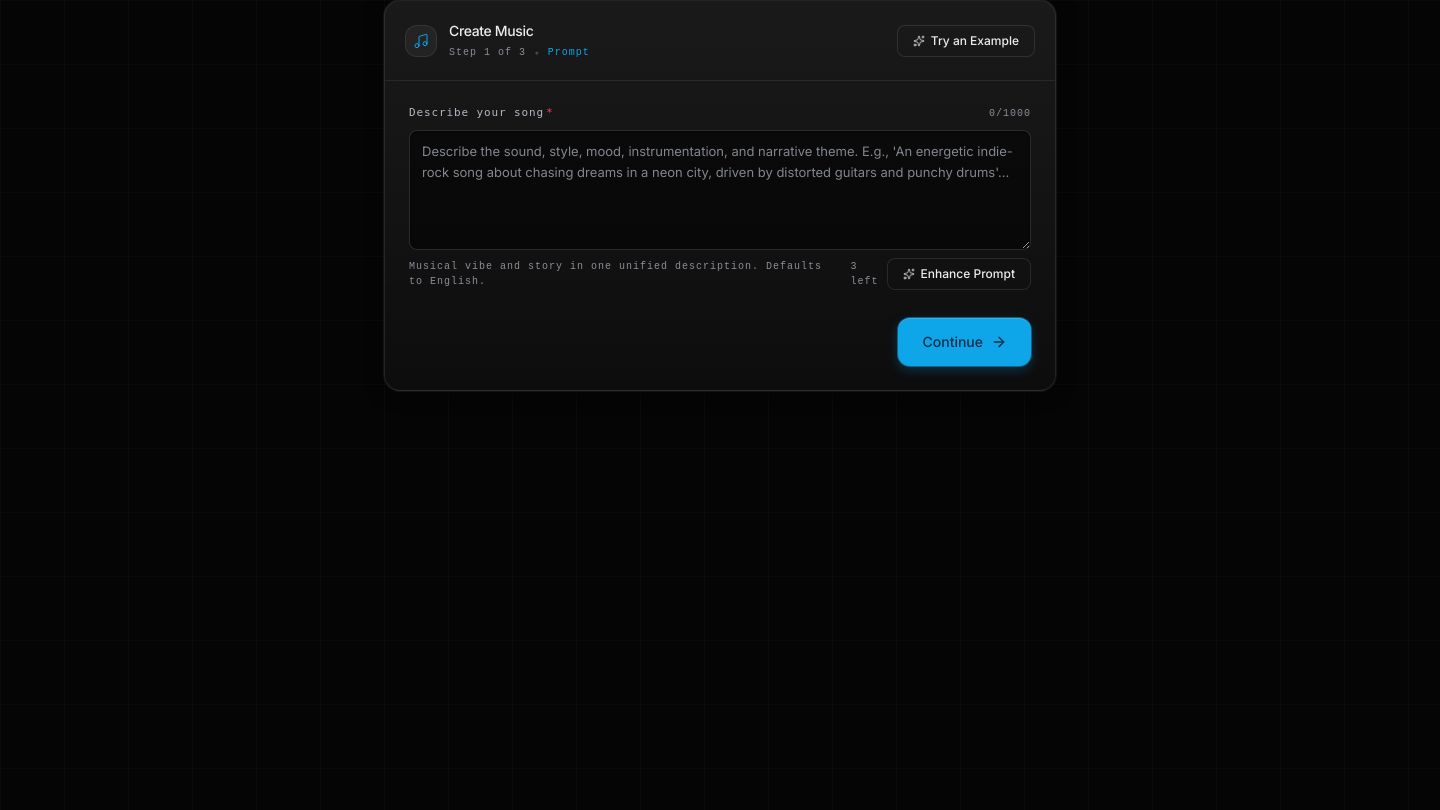
MusicGeneratorWizard - Step 2 Navigation & Preservation › advances from Step 1 to Step 2 with valid prompt
Replace the text in the text box named "prompt" with "Synthwave dream pop with lush pads" at (720, 190), box [409,130,1031,250]
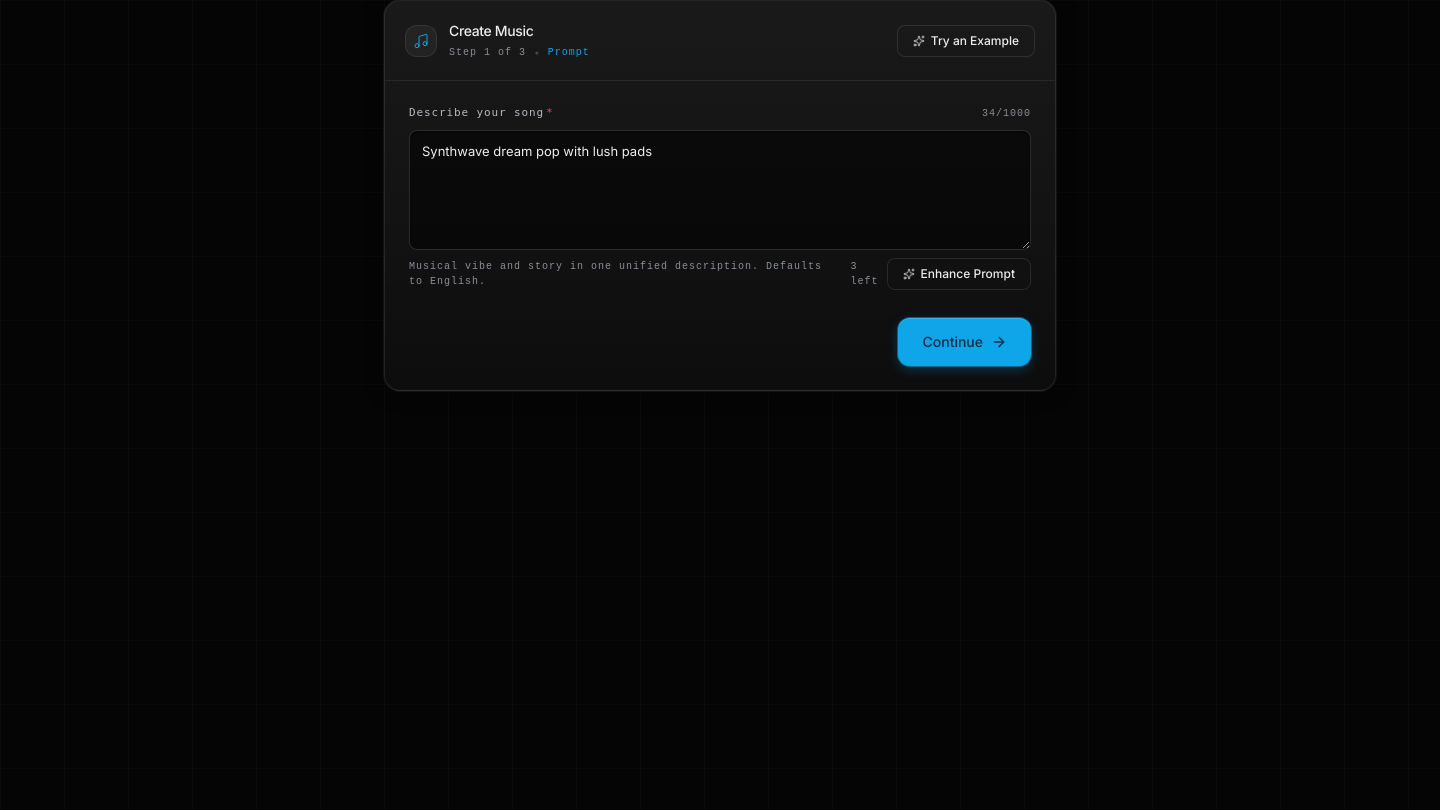
Click the button "Continue" at (965, 342), box [898,318,1031,366]
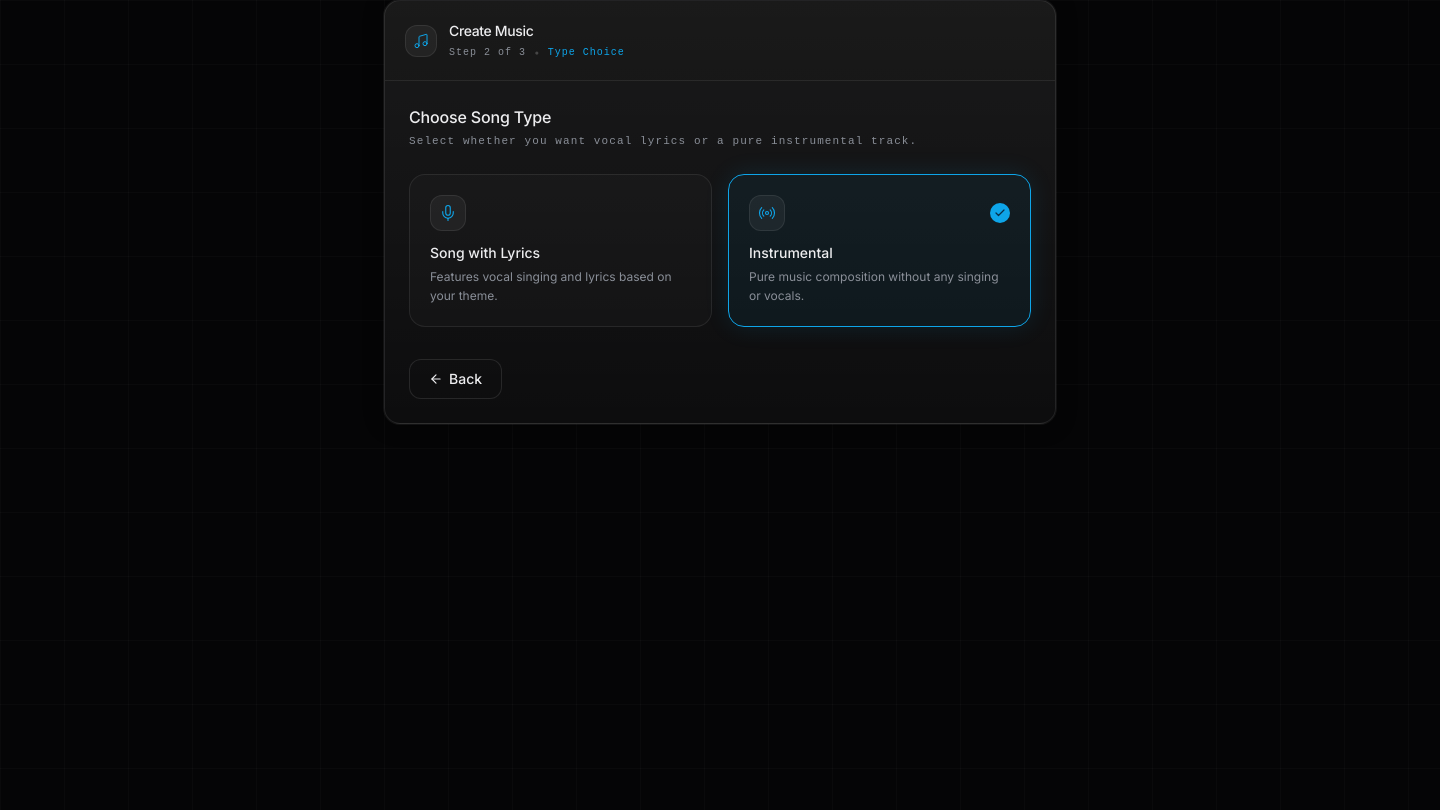
Check: the text "Step 2 of 3" is shown, box [449,45,526,60]
Check: the heading "Choose Song Type" is shown, box [409,107,551,127]
Check: the button "Song with Lyrics" is shown, box [409,174,712,326]
